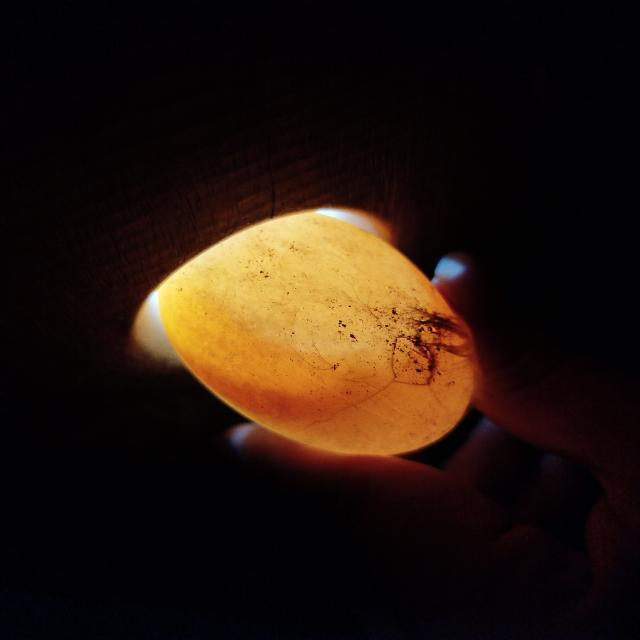Rachadura: (392, 338, 435, 386)
